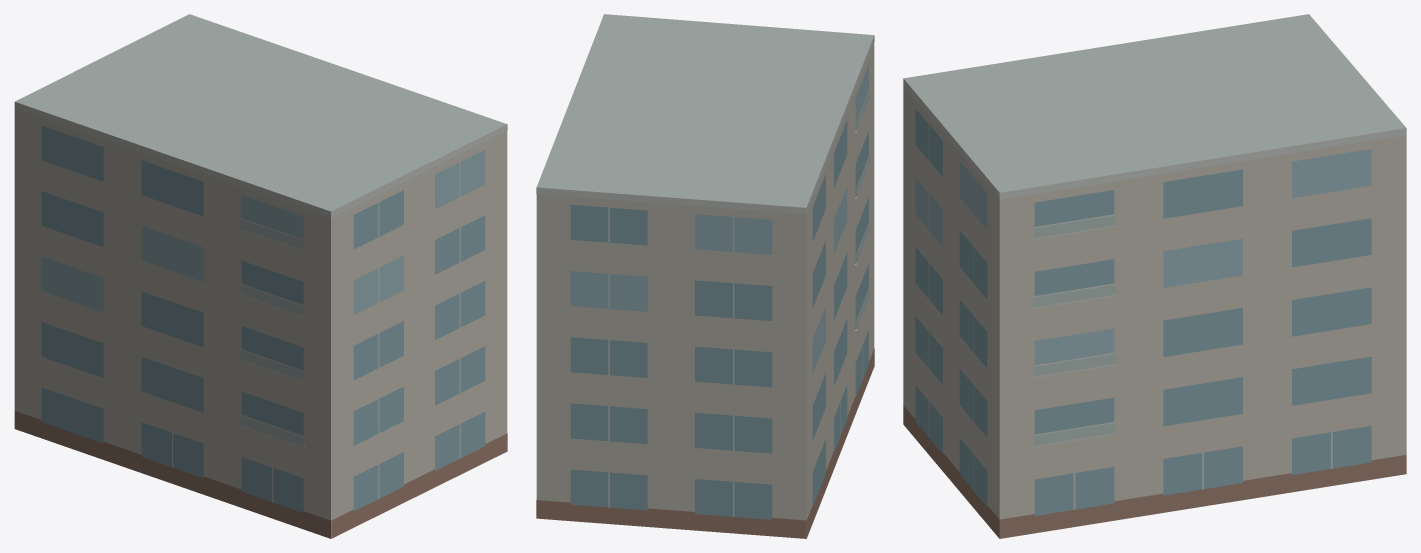
File: survey-upis-32596513.glb
The picture shows the model from 3 angles, left to right: view 1: azimuth 30°, elevation 25°; view 2: azimuth 150°, elevation 25°; view 3: azimuth 270°, elevation 25°; orthographic projection. The views are drawn at different scales.
Parts seen in each view (by area): view 1: survey-upis-32596513.tmp; view 2: survey-upis-32596513.tmp; view 3: survey-upis-32596513.tmp.
Boxes of the visible parts, left/top/right/bottom form: survey-upis-32596513.tmp: left=14, top=14, right=507, bottom=538; survey-upis-32596513.tmp: left=536, top=14, right=874, bottom=538; survey-upis-32596513.tmp: left=903, top=14, right=1406, bottom=538.
Size of the model in its own units: 13.33 by 12.02 by 15.85.
